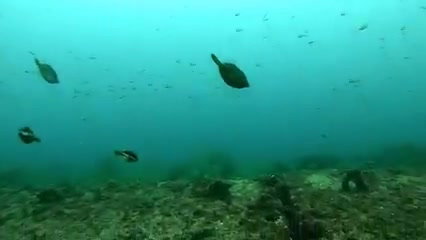kawahagi: (204, 53, 255, 94), (31, 57, 65, 97)
smallfish: (13, 125, 56, 151), (111, 144, 146, 170)
